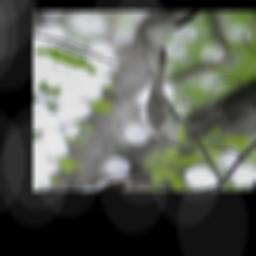Cuckoo: (111, 45, 232, 155)
